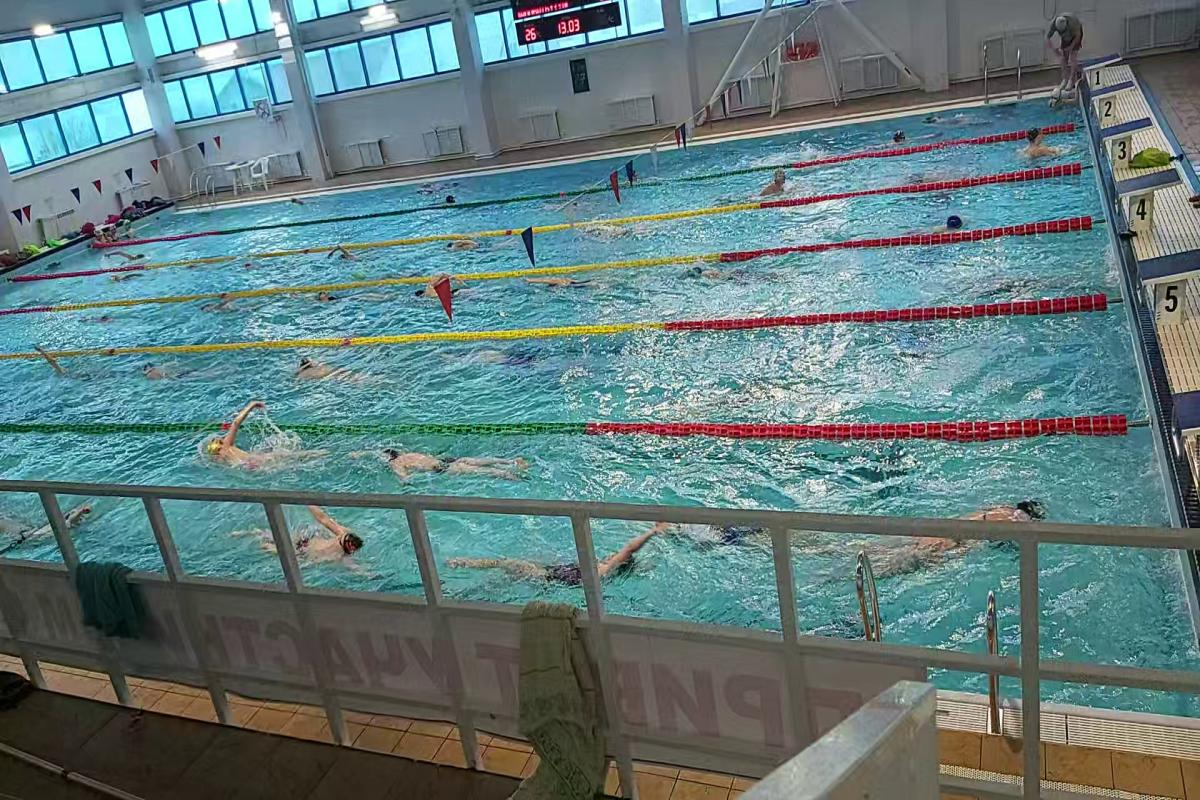swimmer: (879, 486, 1039, 576), (450, 536, 664, 585), (683, 489, 823, 557), (238, 516, 383, 576), (366, 440, 540, 487), (189, 418, 314, 483), (0, 499, 90, 548), (525, 268, 622, 302), (281, 354, 357, 391), (1016, 123, 1076, 167), (670, 258, 755, 284), (318, 286, 366, 321), (752, 164, 802, 196), (441, 230, 496, 258), (145, 359, 197, 385), (324, 248, 372, 276), (936, 207, 965, 233), (407, 284, 441, 306)
